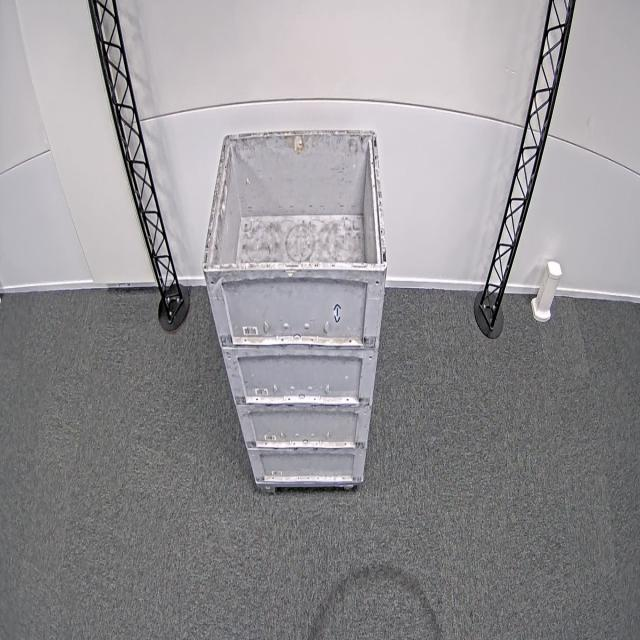Roll4G: (199, 127, 389, 277)
